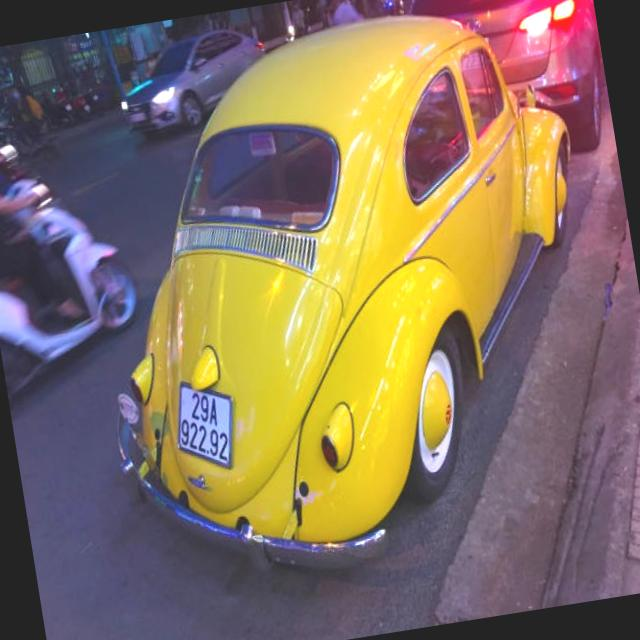car: (76, 4, 616, 568)
